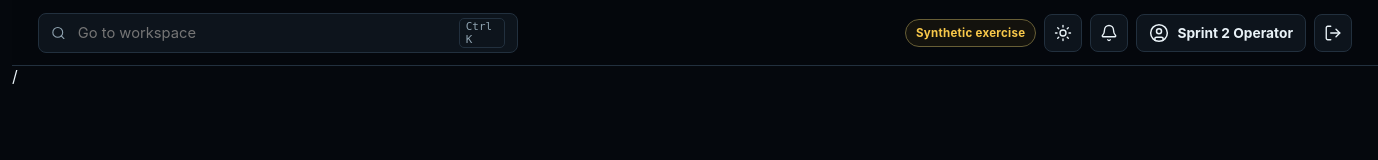
Test: supports enter key command navigation and no-match feedback
In the dropdown named "Command": x=262, y=32 [76, 22, 449, 42], type "Not a route"
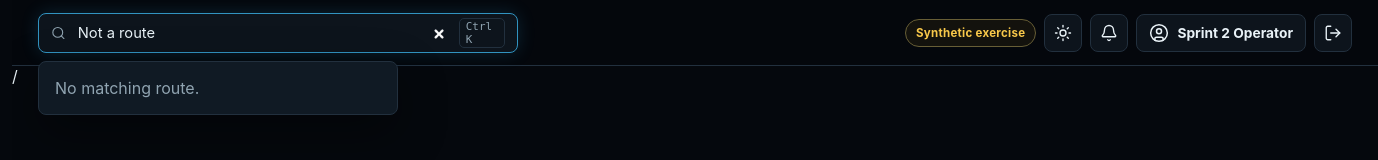
Result: the text "No matching route." is shown at [55, 78, 199, 98]
Press Enter
Expected: the text with test id "location" reads "/", [12, 66, 18, 86]
Replace the text in the dropdown named "Command" with "Audit": x=262, y=32 [76, 22, 449, 42]
Then press Enter
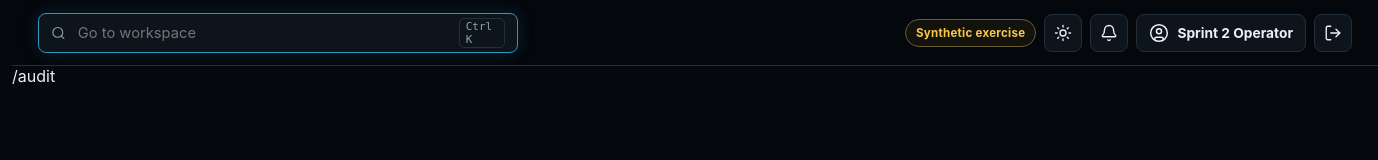
Result: the text with test id "location" reads "/audit" at [12, 66, 55, 86]
